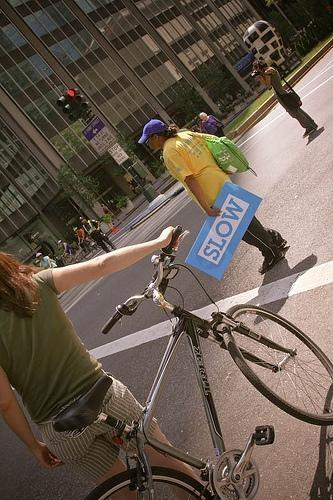bicycle: (52, 225, 333, 500), (59, 248, 82, 266), (80, 240, 95, 260)
